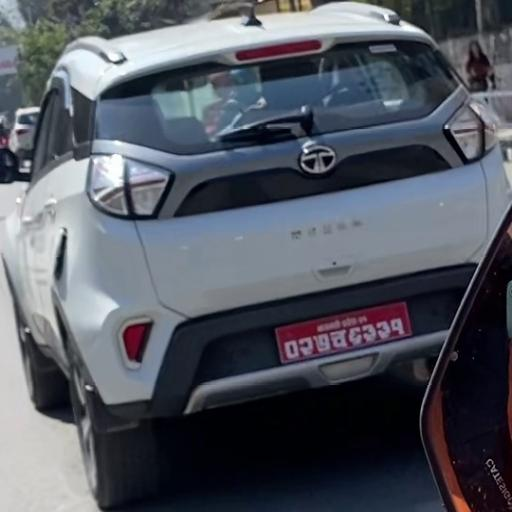license_plate: (273, 296, 418, 373)
